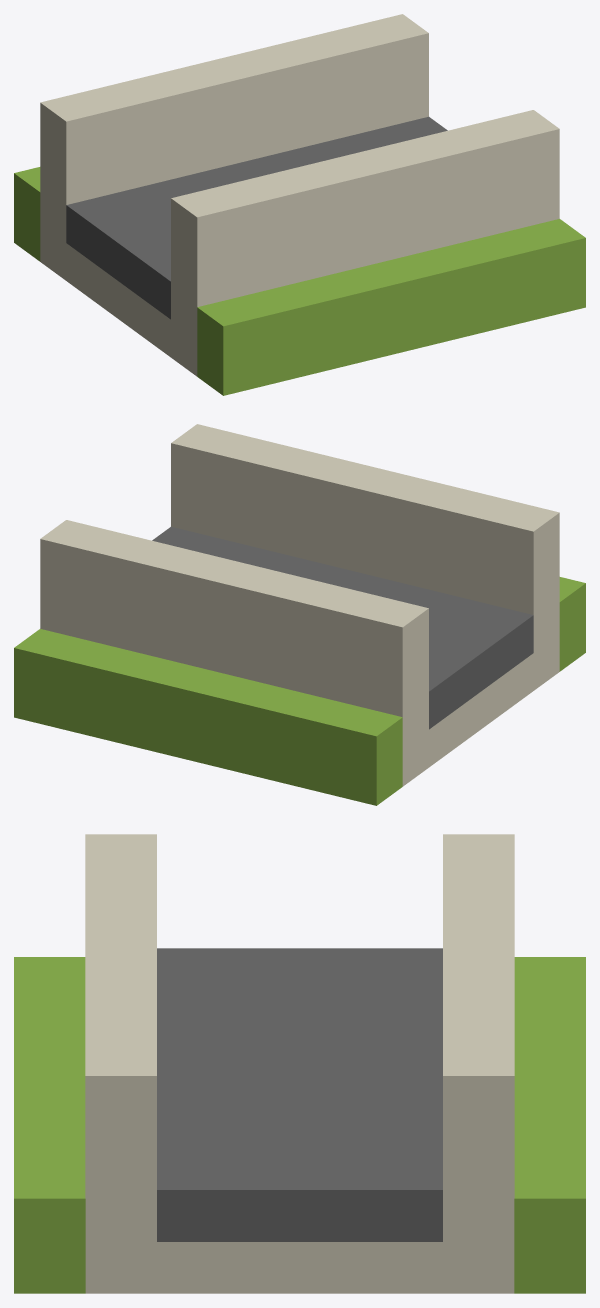
The model's file is tile099.dae.
3 renders of one model, top to bottom at view 1: azimuth 30°, elevation 25°; view 2: azimuth 150°, elevation 25°; view 3: azimuth 270°, elevation 25°, orthographic. The views are drawn at different scales.
Visible parts, largest first — view 1: tile099; view 2: tile099; view 3: tile099.
Boxes of the visible parts, x1,y1,x2,y2 form: tile099: [14, 14, 585, 395]; tile099: [14, 424, 585, 805]; tile099: [14, 834, 585, 1293].
Bounding box in the file's own units: 1 × 0.42 × 1.
